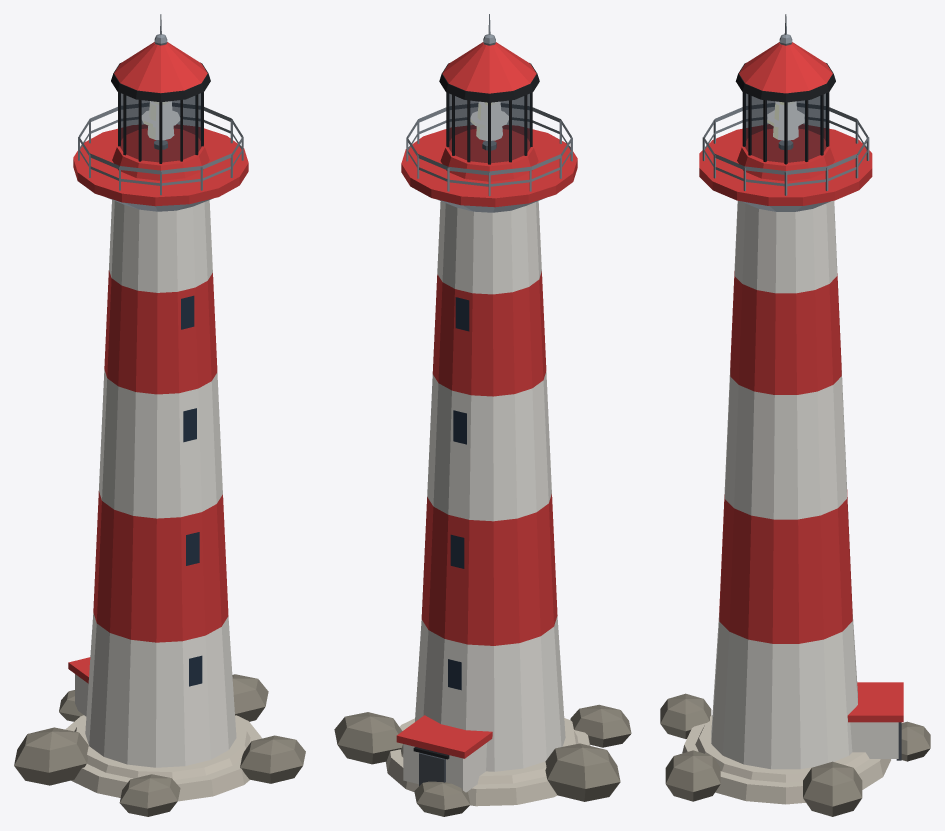
Rendered from lighthouse.glb.
3 renders of one model, left to right at view 1: azimuth 30°, elevation 25°; view 2: azimuth 150°, elevation 25°; view 3: azimuth 270°, elevation 25°, orthographic.
Visible parts, largest first — view 1: Body; view 2: Body; view 3: Body.
Part boxes in pixels (x1=…): Body: x1=14, y1=14, x2=305, y2=816; Body: x1=334, y1=14, x2=631, y2=816; Body: x1=660, y1=14, x2=930, y2=816.
Bounding box in the file's own units: 12.75 × 33.82 × 11.04.
